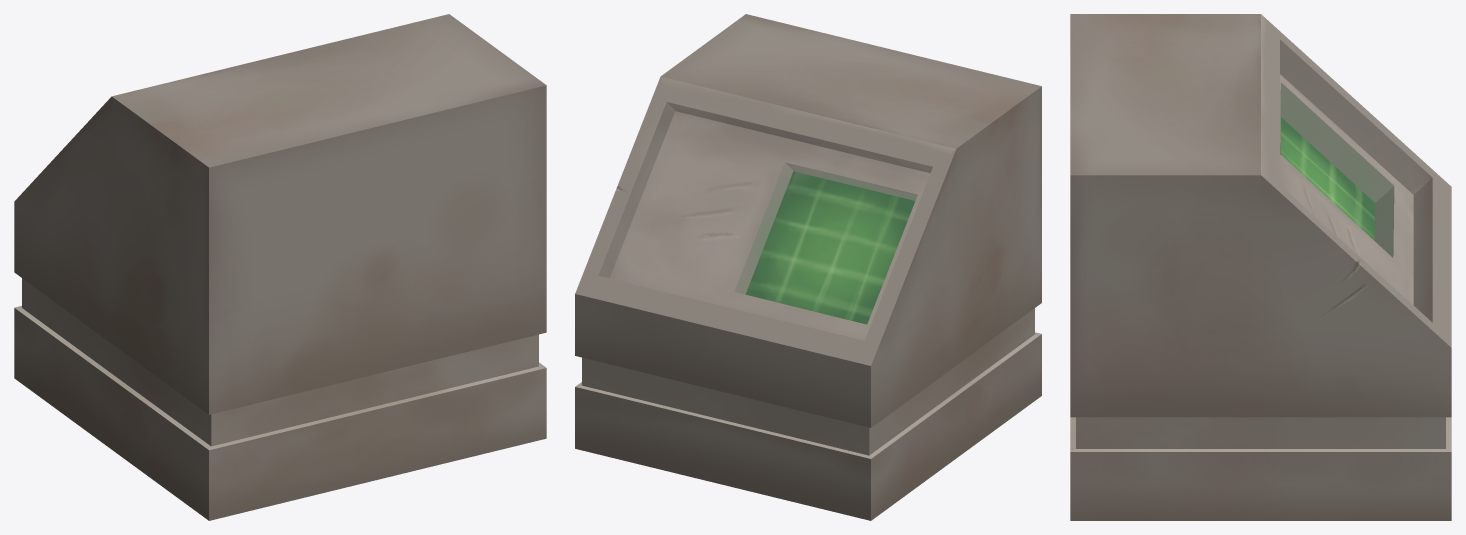
Rendered from Painel_Controle.fbx.
3 renders of one model, left to right at view 1: azimuth 30°, elevation 25°; view 2: azimuth 150°, elevation 25°; view 3: azimuth 270°, elevation 25°, orthographic. The views are drawn at different scales.
Parts seen in each view (by area): view 1: Cube; view 2: Cube; view 3: Cube.
Boxes of the visible parts, bbox=[...] form: Cube: bbox=[14, 14, 546, 520]; Cube: bbox=[575, 14, 1041, 520]; Cube: bbox=[1070, 14, 1451, 520].
Bounding box in the file's own units: 2 × 2 × 2.
